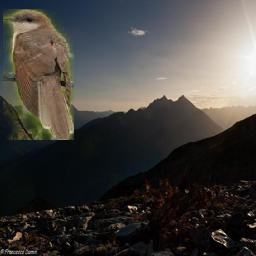Cuckoo: (4, 10, 75, 141)
